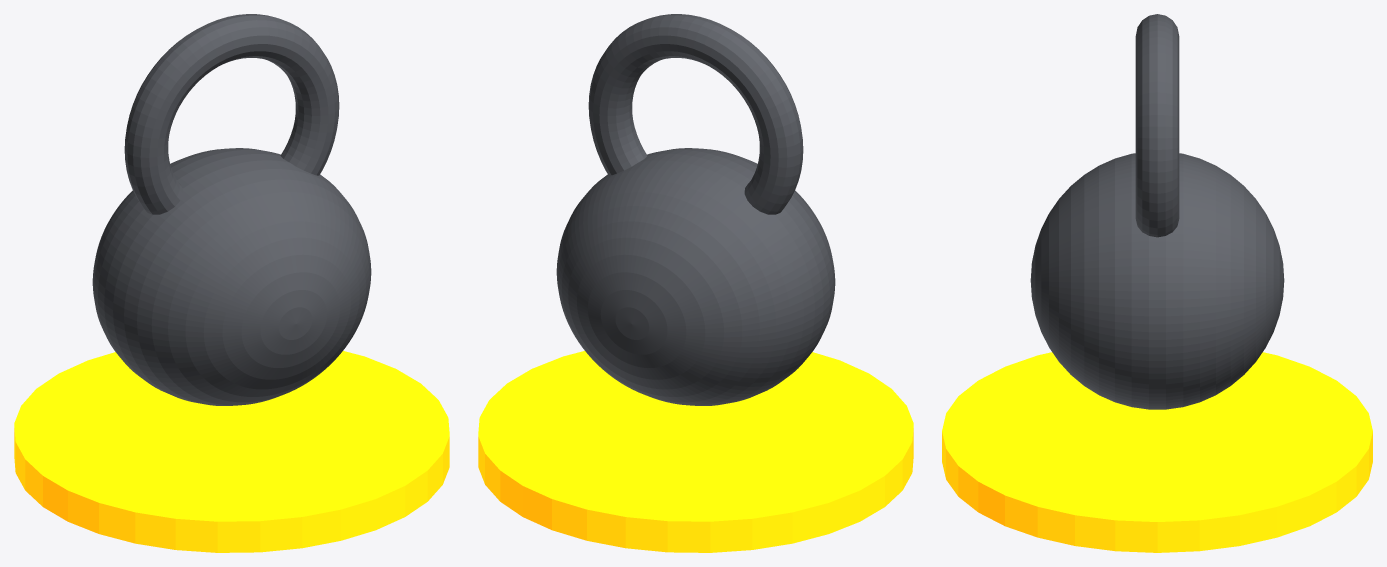
Rendered from fitness_kettlebell.glb.
3 renders of one model, left to right at view 1: azimuth 30°, elevation 25°; view 2: azimuth 150°, elevation 25°; view 3: azimuth 270°, elevation 25°, orthographic.
Parts seen in each view (by area): view 1: 02_02_Popular_Fitness_Kettlebell_ROOT_base, 02_02_Popular_Fitness_Kettlebell_part_01, 02_02_Popular_Fitness_Kettlebell_part_02; view 2: 02_02_Popular_Fitness_Kettlebell_ROOT_base, 02_02_Popular_Fitness_Kettlebell_part_01, 02_02_Popular_Fitness_Kettlebell_part_02; view 3: 02_02_Popular_Fitness_Kettlebell_ROOT_base, 02_02_Popular_Fitness_Kettlebell_part_01, 02_02_Popular_Fitness_Kettlebell_part_02.
Part boxes in pixels (left/top/right/bottom): 02_02_Popular_Fitness_Kettlebell_ROOT_base: left=14, top=351, right=449, bottom=552; 02_02_Popular_Fitness_Kettlebell_part_01: left=92, top=148, right=371, bottom=405; 02_02_Popular_Fitness_Kettlebell_part_02: left=124, top=14, right=339, bottom=214; 02_02_Popular_Fitness_Kettlebell_ROOT_base: left=478, top=351, right=913, bottom=552; 02_02_Popular_Fitness_Kettlebell_part_01: left=556, top=148, right=835, bottom=405; 02_02_Popular_Fitness_Kettlebell_part_02: left=588, top=14, right=803, bottom=214; 02_02_Popular_Fitness_Kettlebell_ROOT_base: left=942, top=352, right=1372, bottom=552; 02_02_Popular_Fitness_Kettlebell_part_01: left=1030, top=153, right=1284, bottom=409; 02_02_Popular_Fitness_Kettlebell_part_02: left=1135, top=14, right=1179, bottom=237.
Size of the model in its own units: 0.76 by 0.85 by 0.76.
